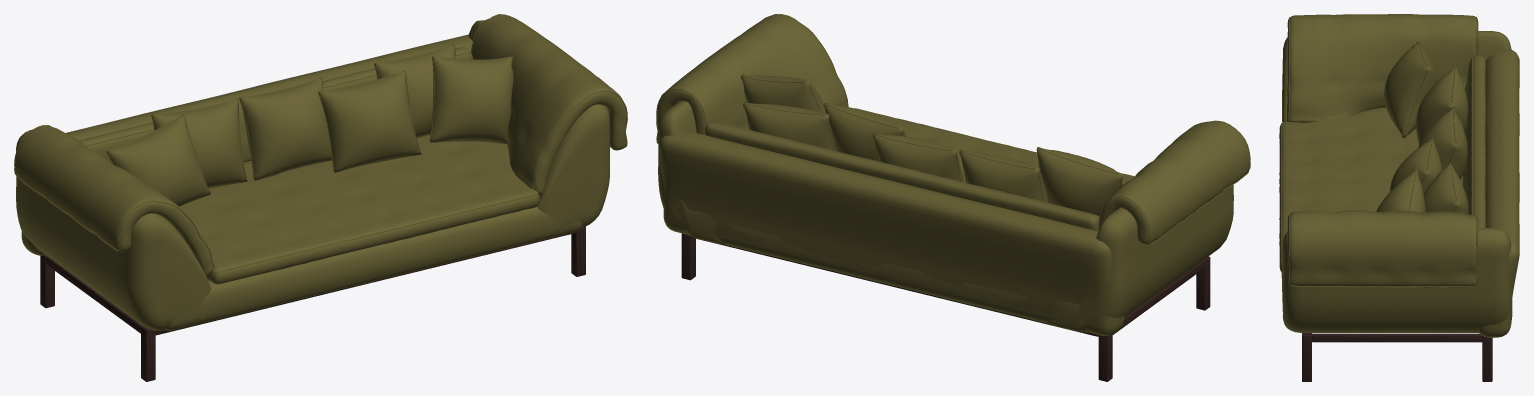
File: stanza-curved-arm-01.glb
The picture shows the model from 3 angles, left to right: view 1: azimuth 30°, elevation 25°; view 2: azimuth 150°, elevation 25°; view 3: azimuth 270°, elevation 25°; orthographic projection. The views are drawn at different scales.
Visible parts, largest first — view 1: seat_pad, arm_l, hull, arm_pad_r, arm_pad_l, pillow_4_cover, pillow_3_cover, pillow_6_cover, arm_r, pillow_1_cover, pillow_2_cover, back_panel (+9 smaller); view 2: back_panel, arm_pad_r, arm_l, arm_pad_l, back_pad, hull, pillow_1_cover, pillow_5_cover, pillow_2_cover, pillow_3_cover, pillow_4_cover, arm_r (+8 smaller); view 3: arm_pad_l, arm_pad_r, arm_r, seat_pad, back_panel, back_pad, pillow_1_cover, pillow_2_cover, pillow_3_cover, wood_base_apron_side_r, pillow_5_cover, pillow_4_cover (+6 smaller).
Part boxes in pixels (x1,y1,x2,y2): seat_pad: [180, 135, 539, 284]; arm_l: [16, 130, 211, 330]; hull: [165, 206, 582, 330]; arm_pad_r: [471, 14, 626, 197]; arm_pad_l: [14, 125, 213, 277]; pillow_4_cover: [318, 71, 421, 172]; pillow_3_cover: [239, 77, 331, 180]; pillow_6_cover: [429, 56, 513, 144]; arm_r: [468, 20, 610, 238]; pillow_1_cover: [106, 114, 210, 206]; pillow_2_cover: [151, 99, 247, 188]; back_panel: [21, 34, 472, 255]; back_panel: [659, 130, 1124, 335]; arm_pad_r: [657, 14, 847, 142]; arm_l: [1046, 185, 1233, 331]; arm_pad_l: [1098, 120, 1249, 244]; back_pad: [705, 122, 1098, 231]; hull: [686, 224, 1087, 332]; pillow_1_cover: [1036, 147, 1123, 216]; pillow_5_cover: [743, 102, 835, 150]; pillow_2_cover: [959, 150, 1048, 202]; pillow_3_cover: [872, 133, 964, 182]; pillow_4_cover: [823, 103, 906, 161]; arm_r: [658, 101, 724, 244]; arm_pad_l: [1287, 14, 1478, 122]; arm_pad_r: [1287, 210, 1478, 286]; arm_r: [1282, 228, 1512, 332]; seat_pad: [1279, 107, 1462, 272]; back_panel: [1478, 50, 1519, 337]; back_pad: [1462, 56, 1485, 227]; pillow_1_cover: [1384, 42, 1437, 138]; pillow_2_cover: [1416, 66, 1468, 144]; pillow_3_cover: [1418, 107, 1467, 179]; wood_base_apron_side_r: [1312, 333, 1482, 342]; pillow_5_cover: [1423, 162, 1468, 213]; pillow_4_cover: [1389, 138, 1442, 193].
Size of the model in its own units: 2.21 by 0.7975 by 0.9994.
5 materials, 5 textured.
